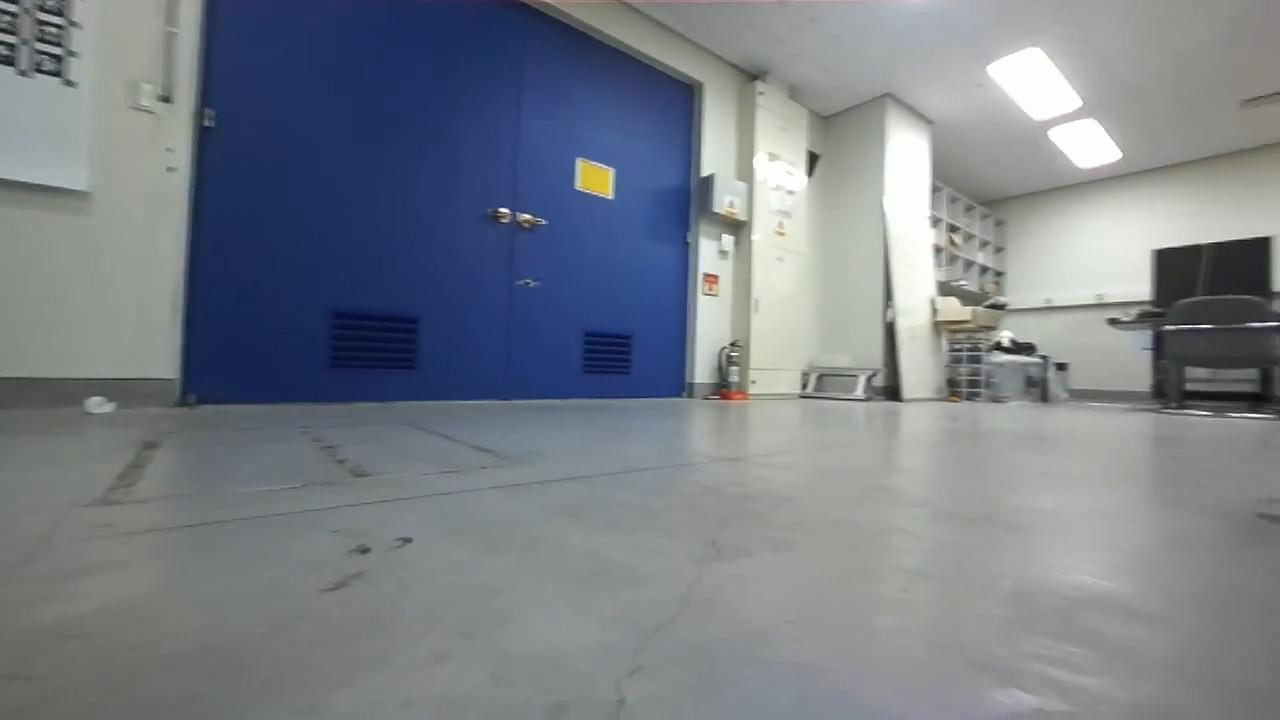crazyflie: (505, 271, 548, 293)
